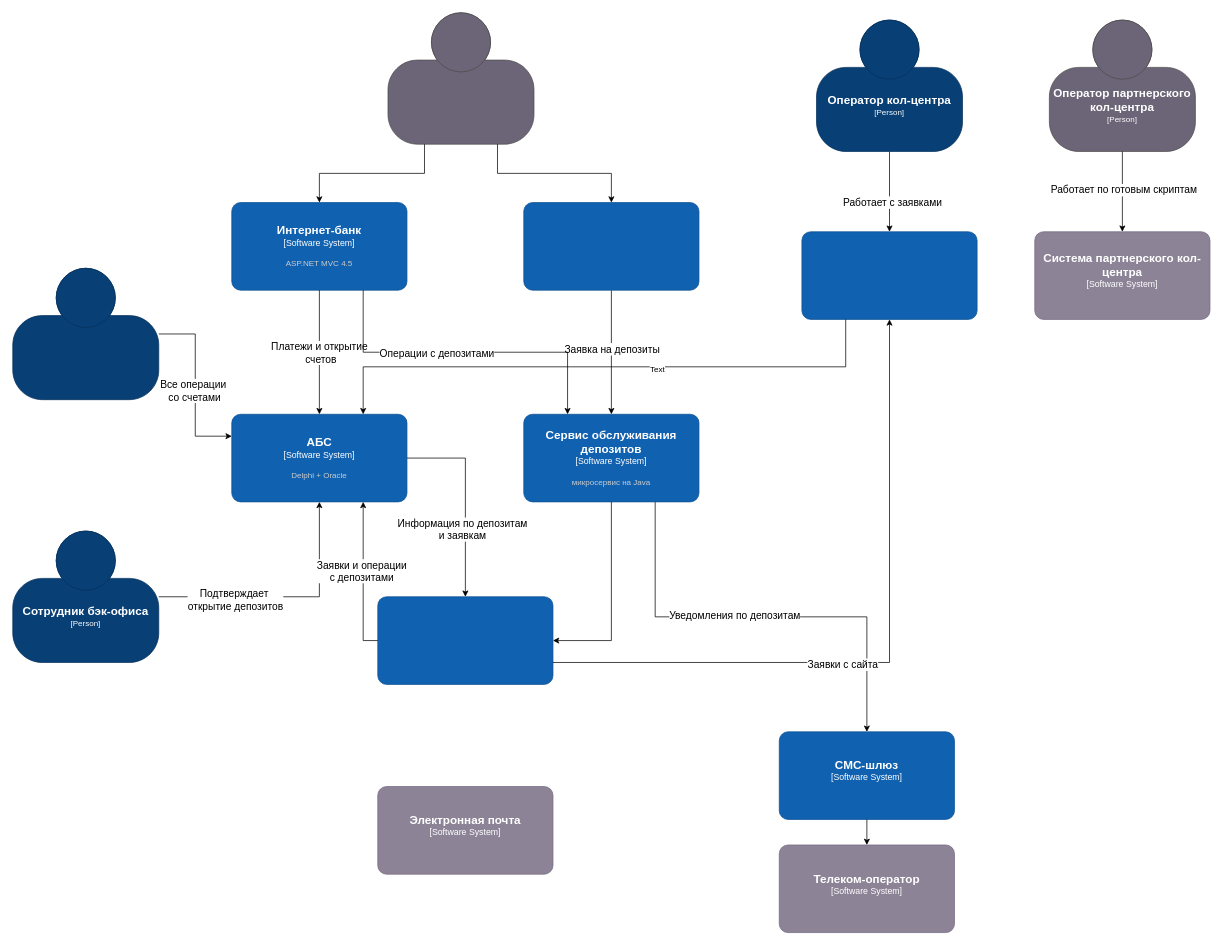
This 1223x945 diagram has some shape labels left out. The shapes that lost their labels are listed below. From the top down, each one's centre as x and y in pixels, then its label:
At point 460,78: "Клиент банка [Person] Description of external person.".
At point 611,246: "Сайт [Software System] PHP + React.js".
At point 889,275: "Система кол-центра [Software System] React.js + Java + PostgreSQL".
At point 85,334: "Сотрудник отделения [Person]".
At point 465,640: "Брокер сообщений [Software System] Kafka".
